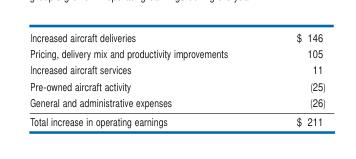table: (29, 28, 324, 128)
table column: (29, 28, 261, 128), (261, 28, 324, 128)
table row: (29, 93, 324, 111), (29, 60, 324, 77), (29, 111, 324, 128), (29, 28, 324, 44), (29, 44, 324, 60), (29, 77, 324, 93)
